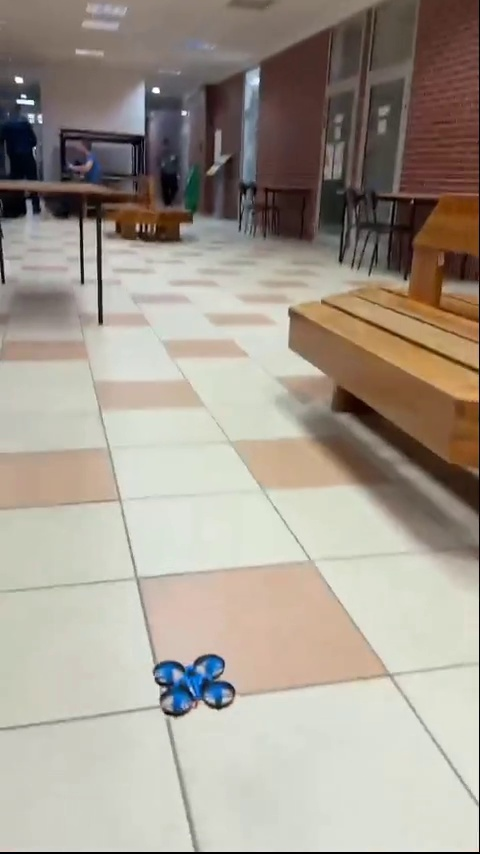drone: (156, 655, 236, 716)
no vest: (2, 102, 48, 217), (152, 132, 188, 211), (63, 132, 108, 192)
